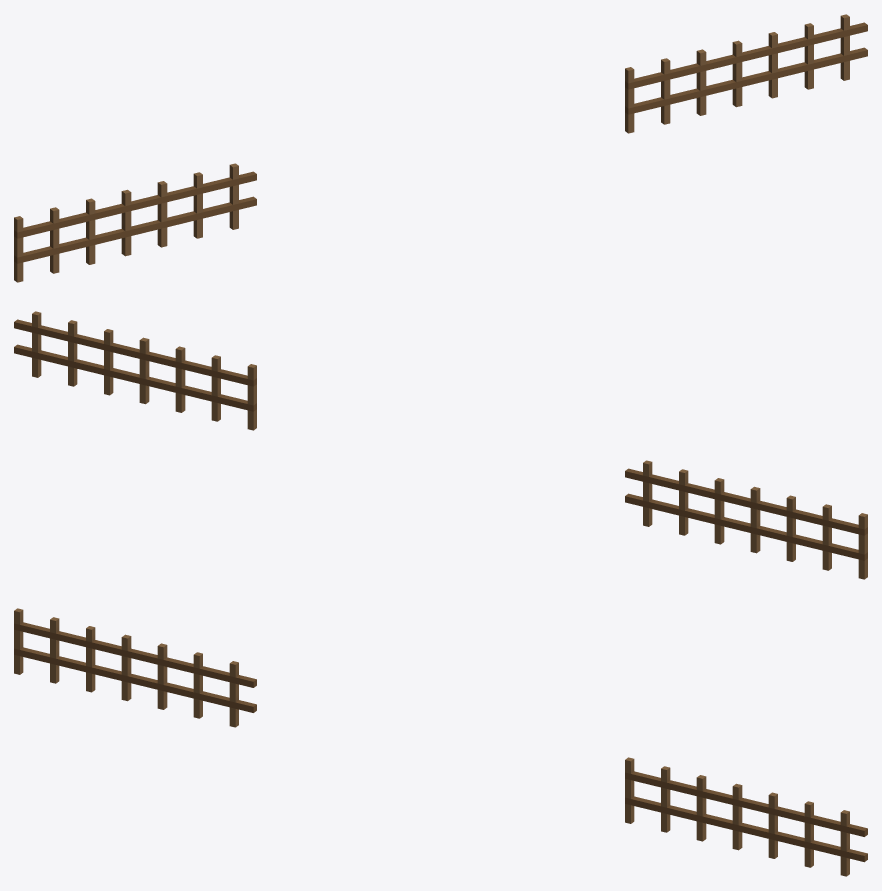
Rendered from antenna_e1_l3.glb.
3 views of the same model, one above another, from view 1: azimuth 30°, elevation 25°; view 2: azimuth 150°, elevation 25°; view 3: azimuth 330°, elevation 25° (orthographic).
Visible parts, largest first — view 1: Base; view 2: Base; view 3: Base.
Part boxes in pixels (bbox=[...]): Base: bbox=[14, 14, 867, 282]; Base: bbox=[14, 311, 867, 579]; Base: bbox=[14, 608, 867, 876].
Size of the model in its own units: 14.2 by 1 by 0.1.
